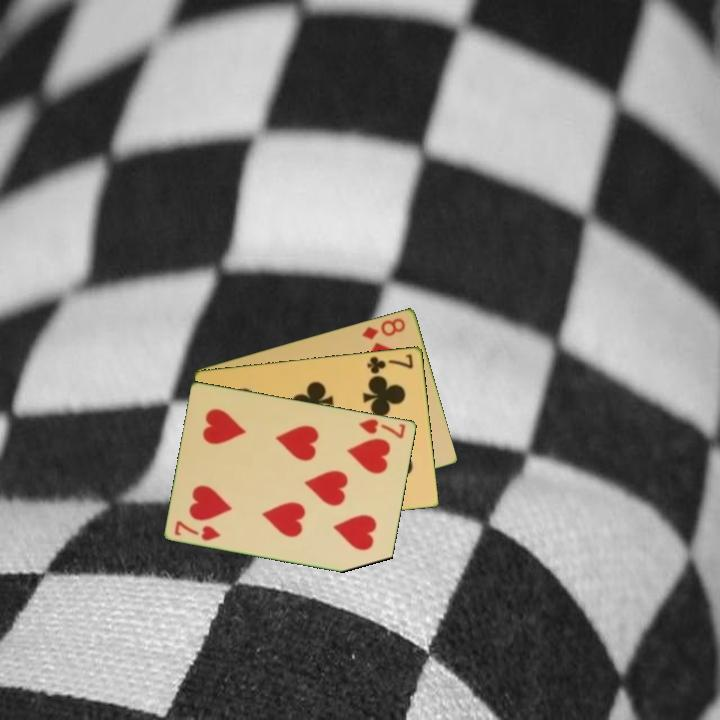7c: (364, 350, 416, 377)
7h: (356, 415, 409, 441), (171, 517, 223, 543)
8d: (358, 314, 408, 342)
